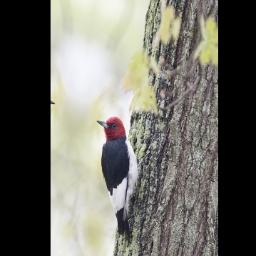Woodpecker: (78, 109, 149, 240)
